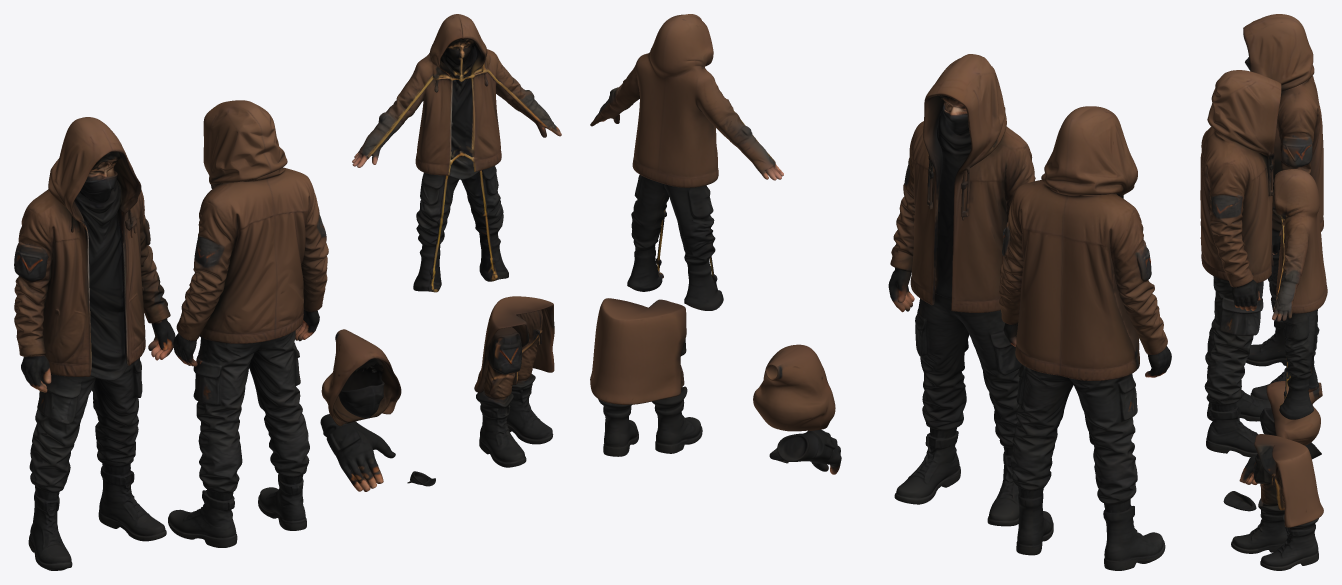
The picture shows the model from 3 angles, left to right: view 1: azimuth 30°, elevation 25°; view 2: azimuth 150°, elevation 25°; view 3: azimuth 270°, elevation 25°; orthographic projection. The views are drawn at different scales.
Visible parts, largest first — view 1: material; view 2: material; view 3: material.
Boxes of the visible parts, left/top/right/bottom form: material: left=14, top=14, right=561, bottom=570; material: left=590, top=14, right=1171, bottom=570; material: left=1200, top=14, right=1327, bottom=570.
Size of the model in its own units: 0.9892 by 0.7537 by 0.2338.
Materials: 1 (1 with a texture image).
